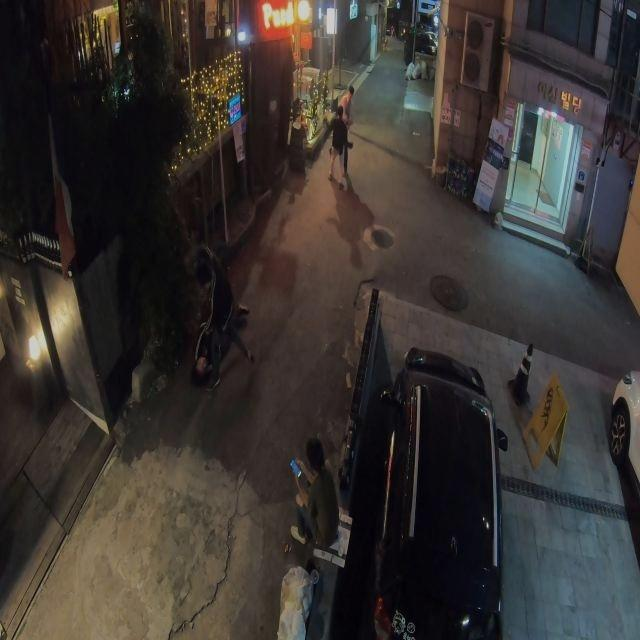fight: (183, 249, 255, 385)
non-fight: (290, 446, 338, 546), (329, 105, 352, 182), (338, 87, 353, 126)
